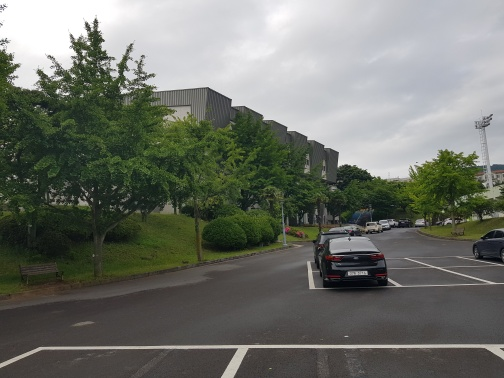Gym: (156, 83, 342, 225), (232, 104, 338, 185)
